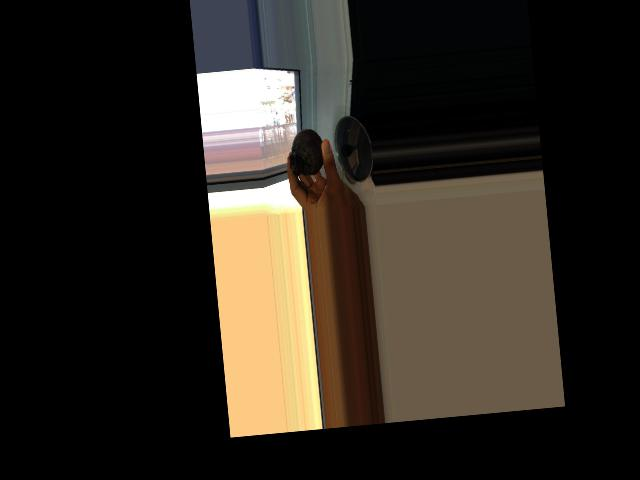beet: (286, 127, 327, 190)
